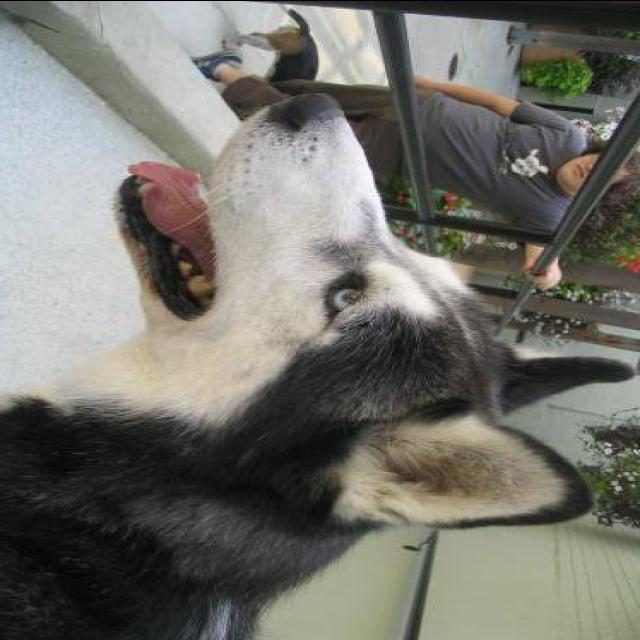dog: (0, 74, 627, 640)
